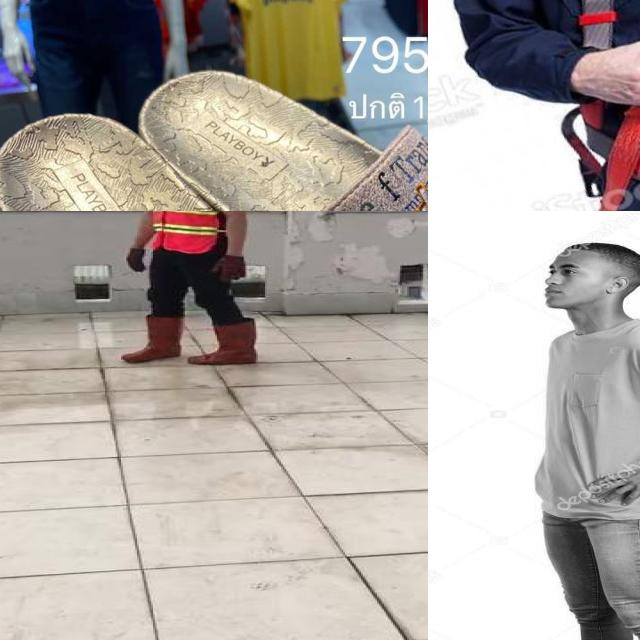No_Ear-Protection: (606, 264, 630, 306)
Sandals: (0, 61, 428, 211)
boots: (190, 322, 260, 367), (123, 316, 187, 362)
face_nomask: (532, 274, 596, 310)
hand_glove: (210, 255, 247, 281), (126, 247, 148, 273)
hand_noglove: (591, 453, 640, 507)
person: (516, 241, 640, 640), (110, 211, 275, 371)
vest: (145, 211, 222, 252)
